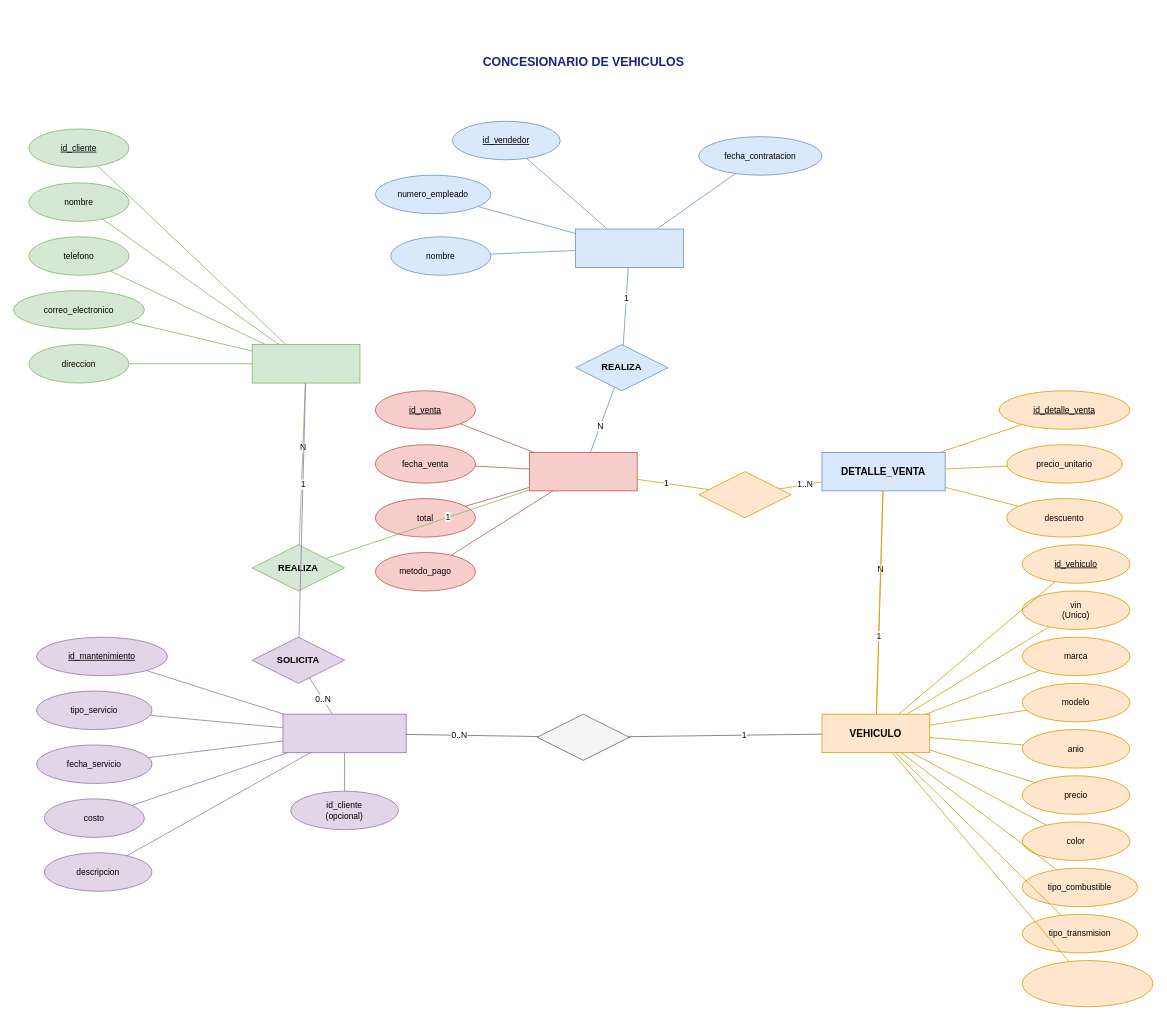
Image size: 1167x1020. Some labels were removed from this diagram. The shapes that lost their labels are listed below. From the top down, each one's centre as x and y in pixels, then its label:
(629,248): VENDEDOR
(305,363): CLIENTE
(583,471): VENTA
(744,494): INCLUYE
(344,733): MANTENIMIENTO
(582,736): TIENE
(1087,983): estado (disponible, no disponible)
